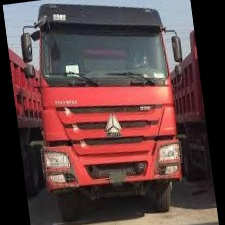truck: (22, 0, 202, 225)
